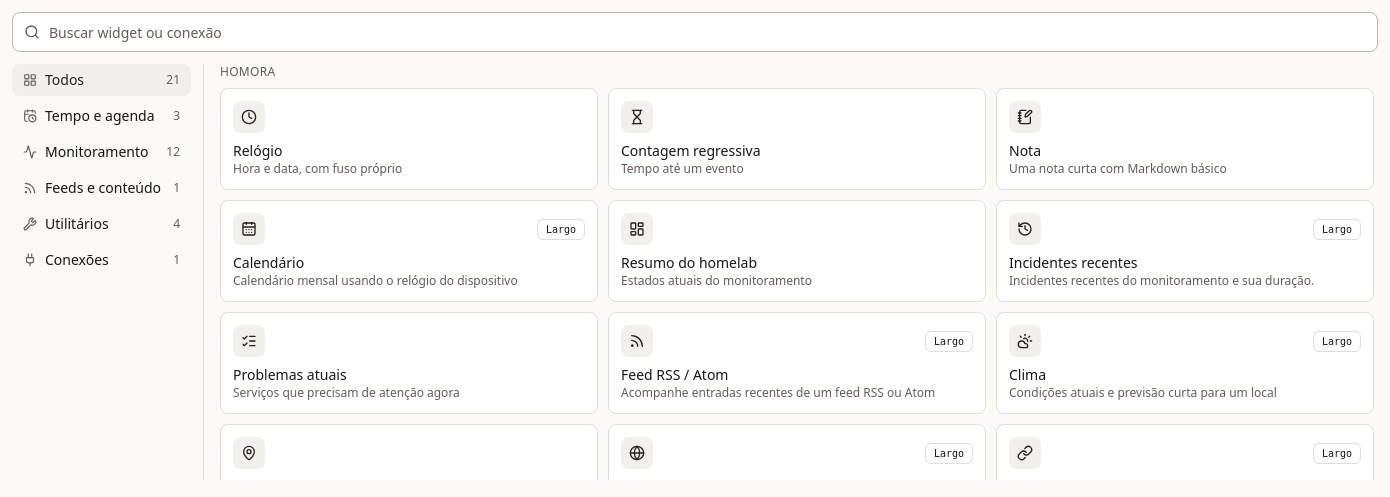
filters widgets by category and shows connections only when matching
Expected: the button "Relógio Hora e data, com fuso próprio" is shown, top-left (220, 88), bottom-right (598, 190)
What coordinates should you click on to do the following:
click the button "Monitoramento 12"
I would click on:
 (102, 152)
Its box is top-left (12, 136), bottom-right (191, 168).
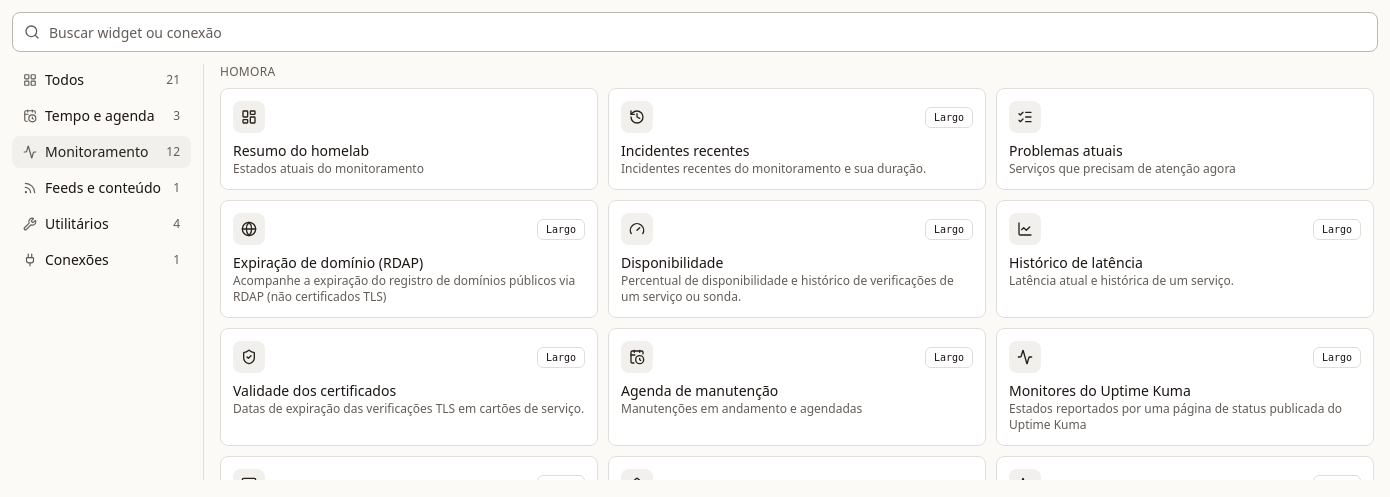
Expected: the button "Problemas atuais Serviços que precisam de atenção agora" is shown, top-left (996, 88), bottom-right (1374, 190)
Expected: the button "Relógio" is gone
